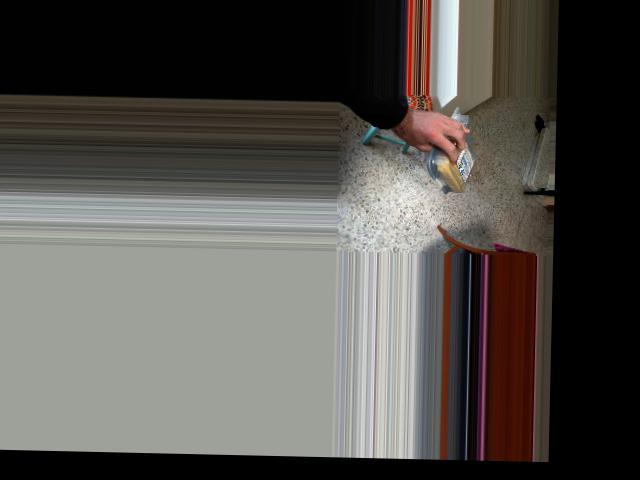cheese: (433, 131, 476, 196)
